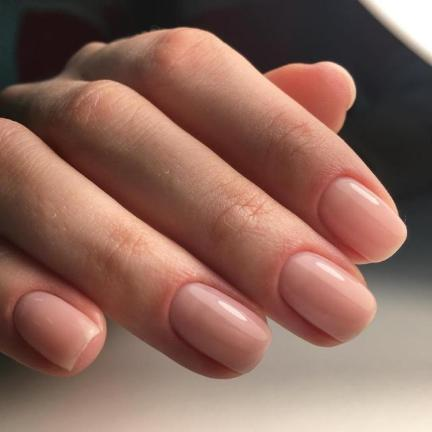Nail: (170, 282, 274, 374), (279, 251, 376, 344), (319, 177, 407, 263), (12, 290, 101, 372)
